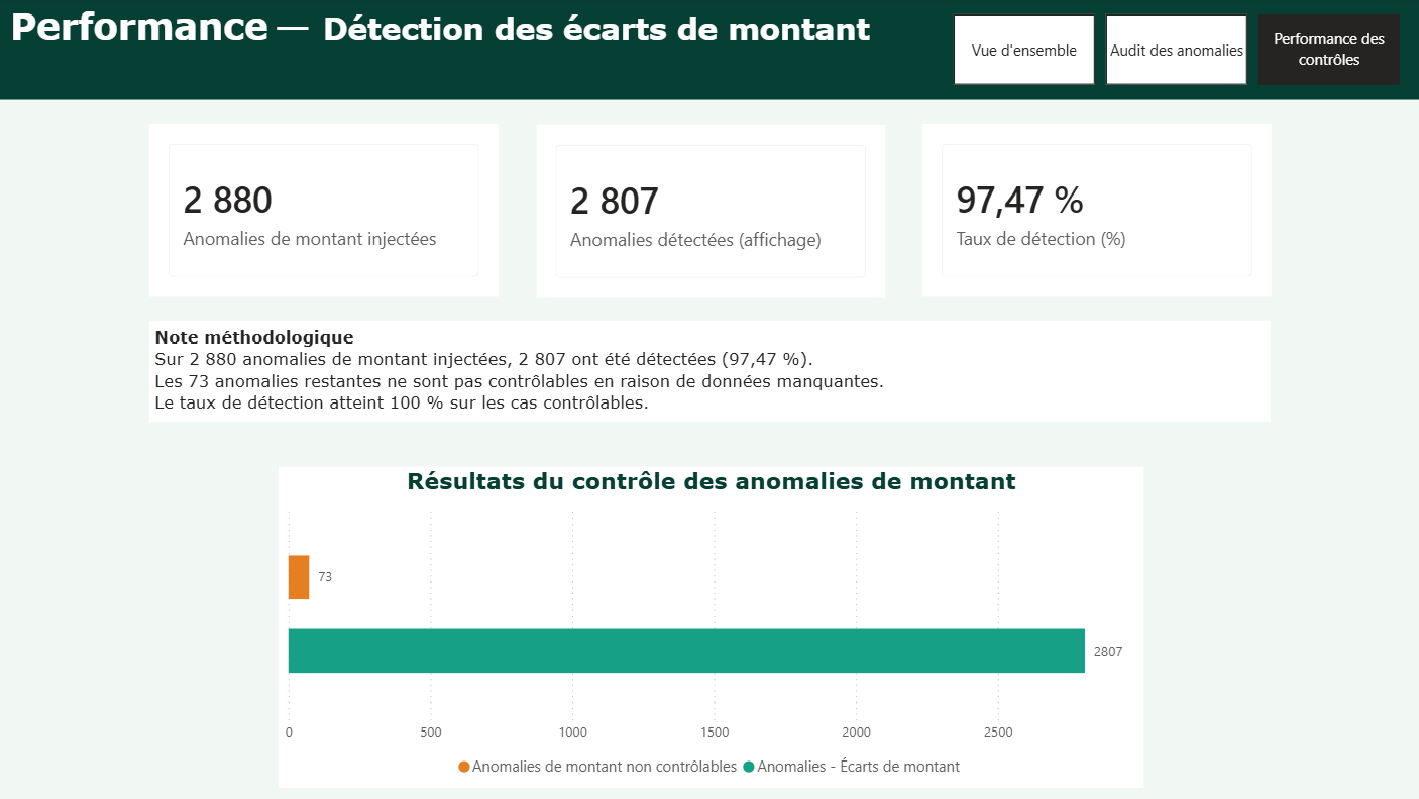

The page's visual inventory and layout, read from the dashboard file:
{"tool":"powerbi","page":{"name":"Performance des contrôles","canvas":[1280,720],"ordinal":2},"visuals":[{"type":"textbox","box":[9.9,0,1262.9,89.2],"z":0},{"type":"cardVisual","fields":{"Data":["ground_truth_anomalies.Anomalies de montant injectées"]},"box":[140.7,109.4,311.4,150.3],"z":1000},{"type":"cardVisual","fields":{"Data":["rapprochement.Anomalies détectées (affichage)"]},"box":[485.8,110.6,311.4,150.3],"z":2000},{"type":"cardVisual","fields":{"Data":["rapprochement.Taux de détection (%)"]},"box":[829.7,109.4,311.4,150.3],"z":3000},{"type":"textbox","box":[140.7,280.2,1000.4,89],"z":4000},{"type":"clusteredBarChart","title":"Résultats du contrôle des anomalies de montant ","fields":{"Y":["ground_truth_anomalies.Anomalies de montant non contrôlables","rapprochement.Anomalies - Écarts de montant"]},"box":[256.1,407.6,772,280.2],"z":5000},{"type":"pageNavigator","box":[857.3,14.4,400.4,61.3],"z":6000}]}

Visuals, with their boxes in screenshot pixels (x1, y1, x2, y2), scaled from the page's 1280x720 canvas onto the 1419x799 screenshot:
textbox: BBox(11, 0, 1411, 99)
cardVisual - ground_truth_anomalies.Anomalies de montant injectées: BBox(156, 121, 501, 288)
cardVisual - rapprochement.Anomalies détectées (affichage): BBox(539, 123, 884, 290)
cardVisual - rapprochement.Taux de détection (%): BBox(920, 121, 1265, 288)
textbox: BBox(156, 311, 1265, 410)
"Résultats du contrôle des anomalies de montant " clusteredBarChart: BBox(284, 452, 1140, 763)
pageNavigator: BBox(950, 16, 1394, 84)
